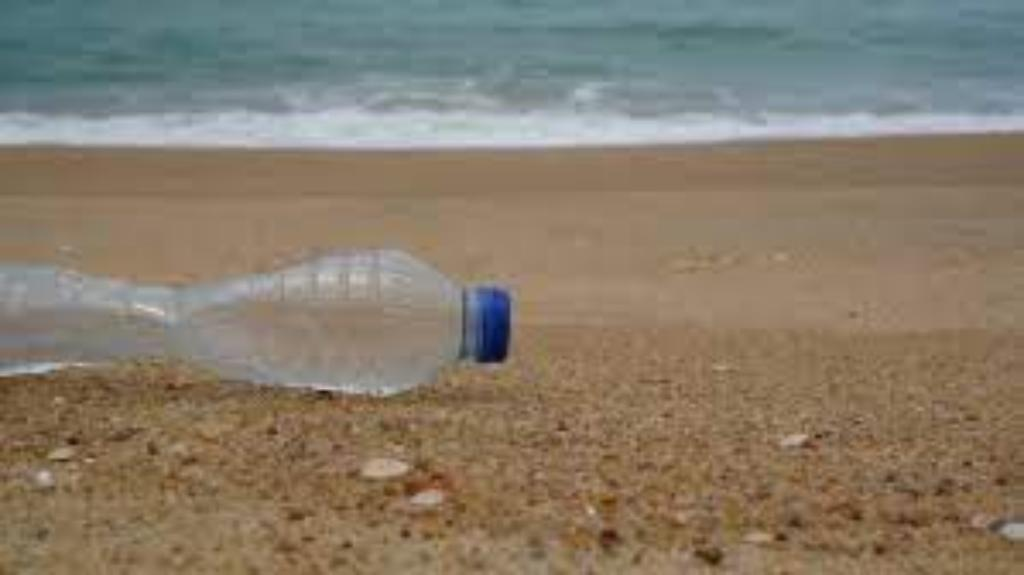garbage: (0, 228, 521, 430)
